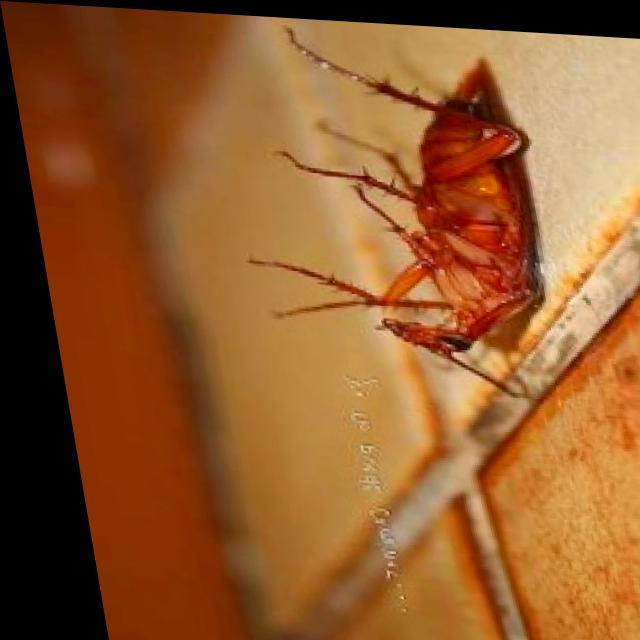cockroach: (246, 23, 550, 403)
